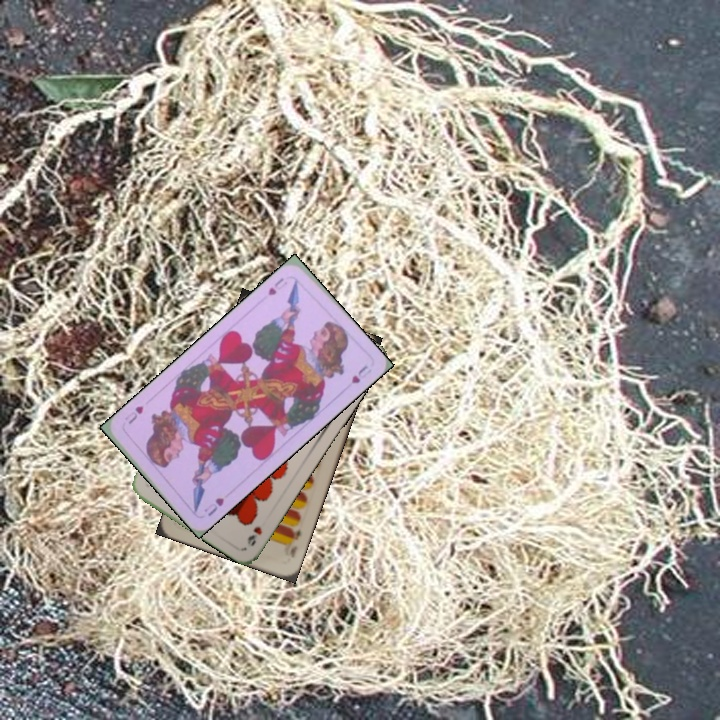E10: (286, 525, 304, 560)
H9: (243, 522, 265, 549)
HU: (200, 493, 227, 519), (264, 273, 290, 298)
